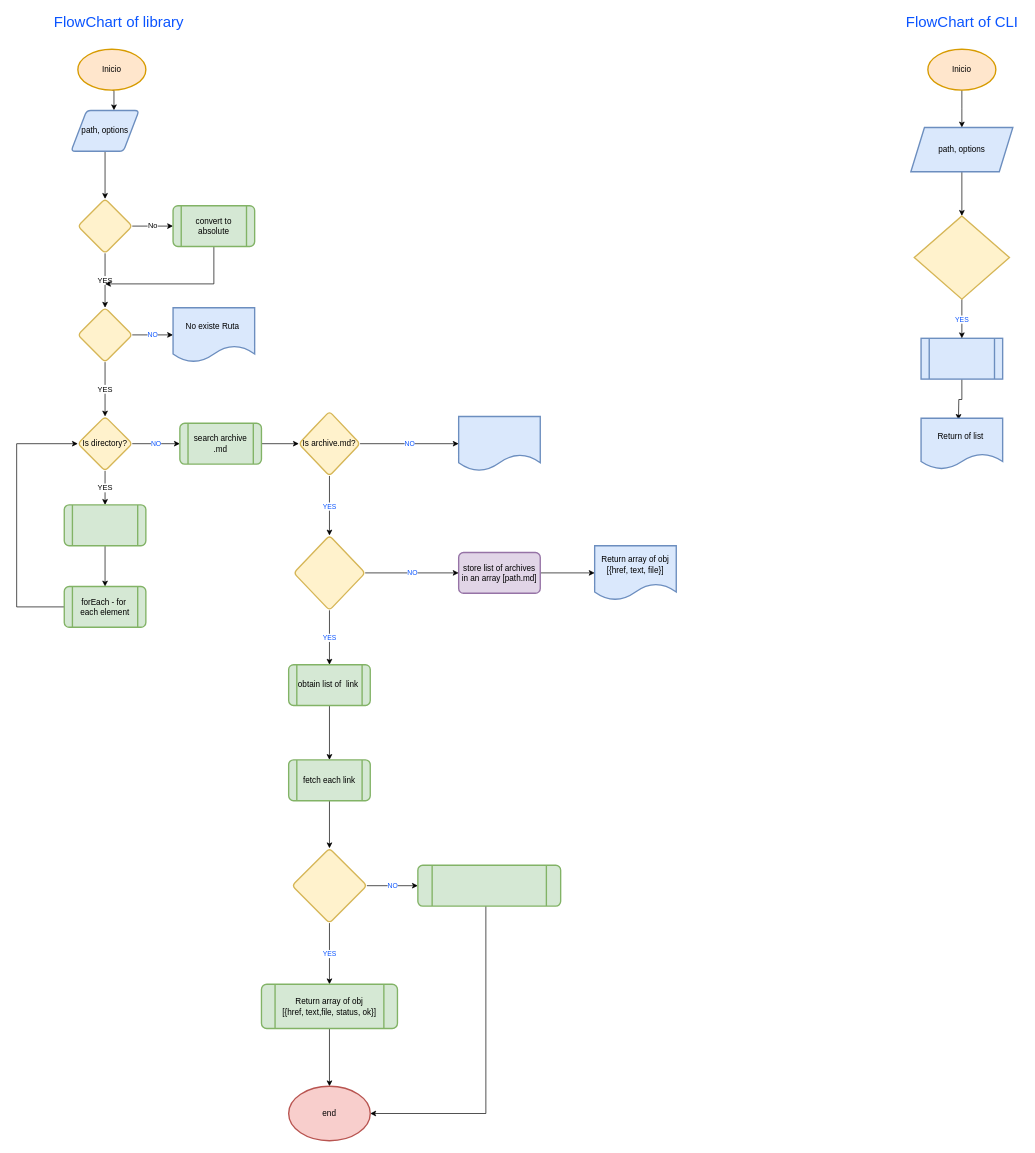
This 1035x1153 diagram has some shape labels left out. Here are the shapes that lost their labels. From the top down, the centre of each, then its label:
At (105,226): "absolute?".
At (961,257): "if path.md?".
At (105,334): "path exist?".
At (961,358): "execute flowchart library".
At (499,443): "This archive isn't a mackDown".
At (104,525): "Obtain list of paths".
At (329,572): "validate: true".
At (329,885): "link valid !404".
At (489,885): "Return array obj [{href, text,file, status, fail}]".
